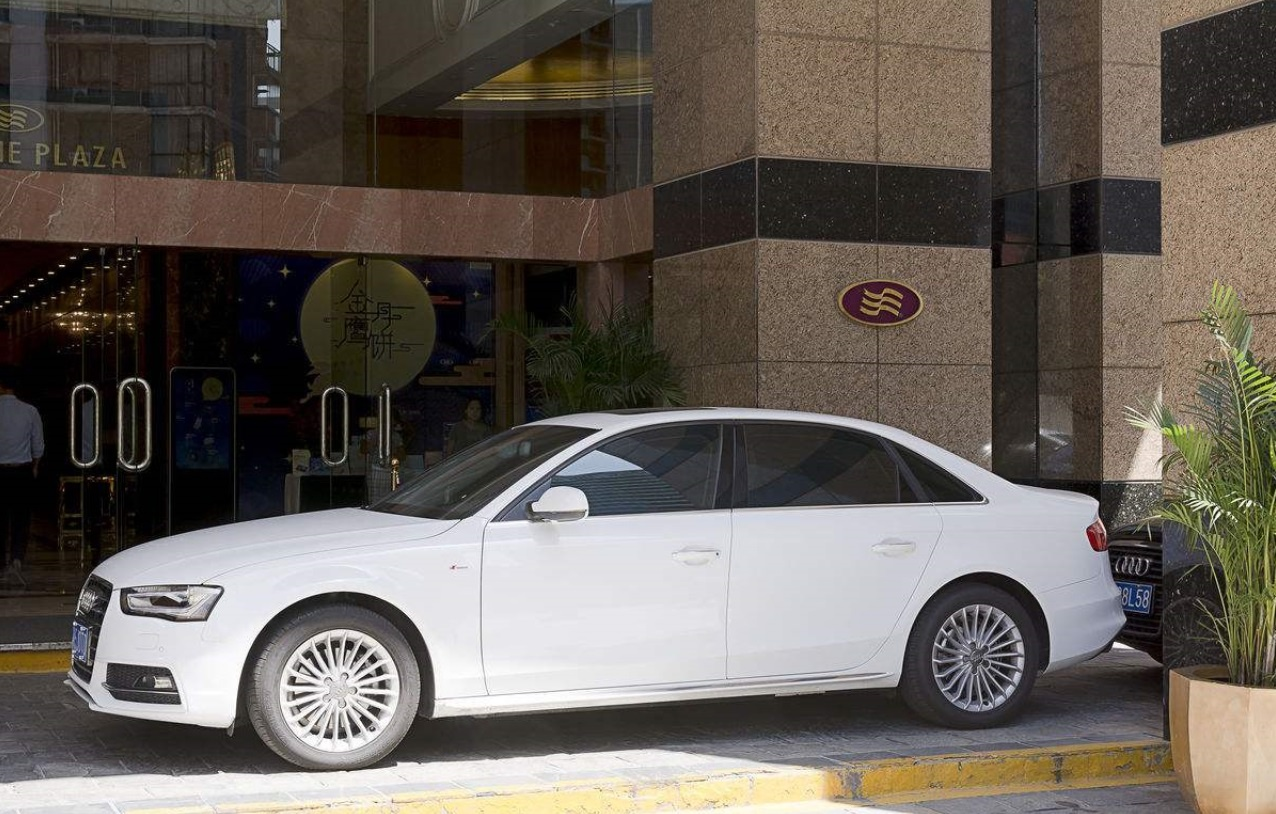family sedan: (69, 381, 1121, 756)
